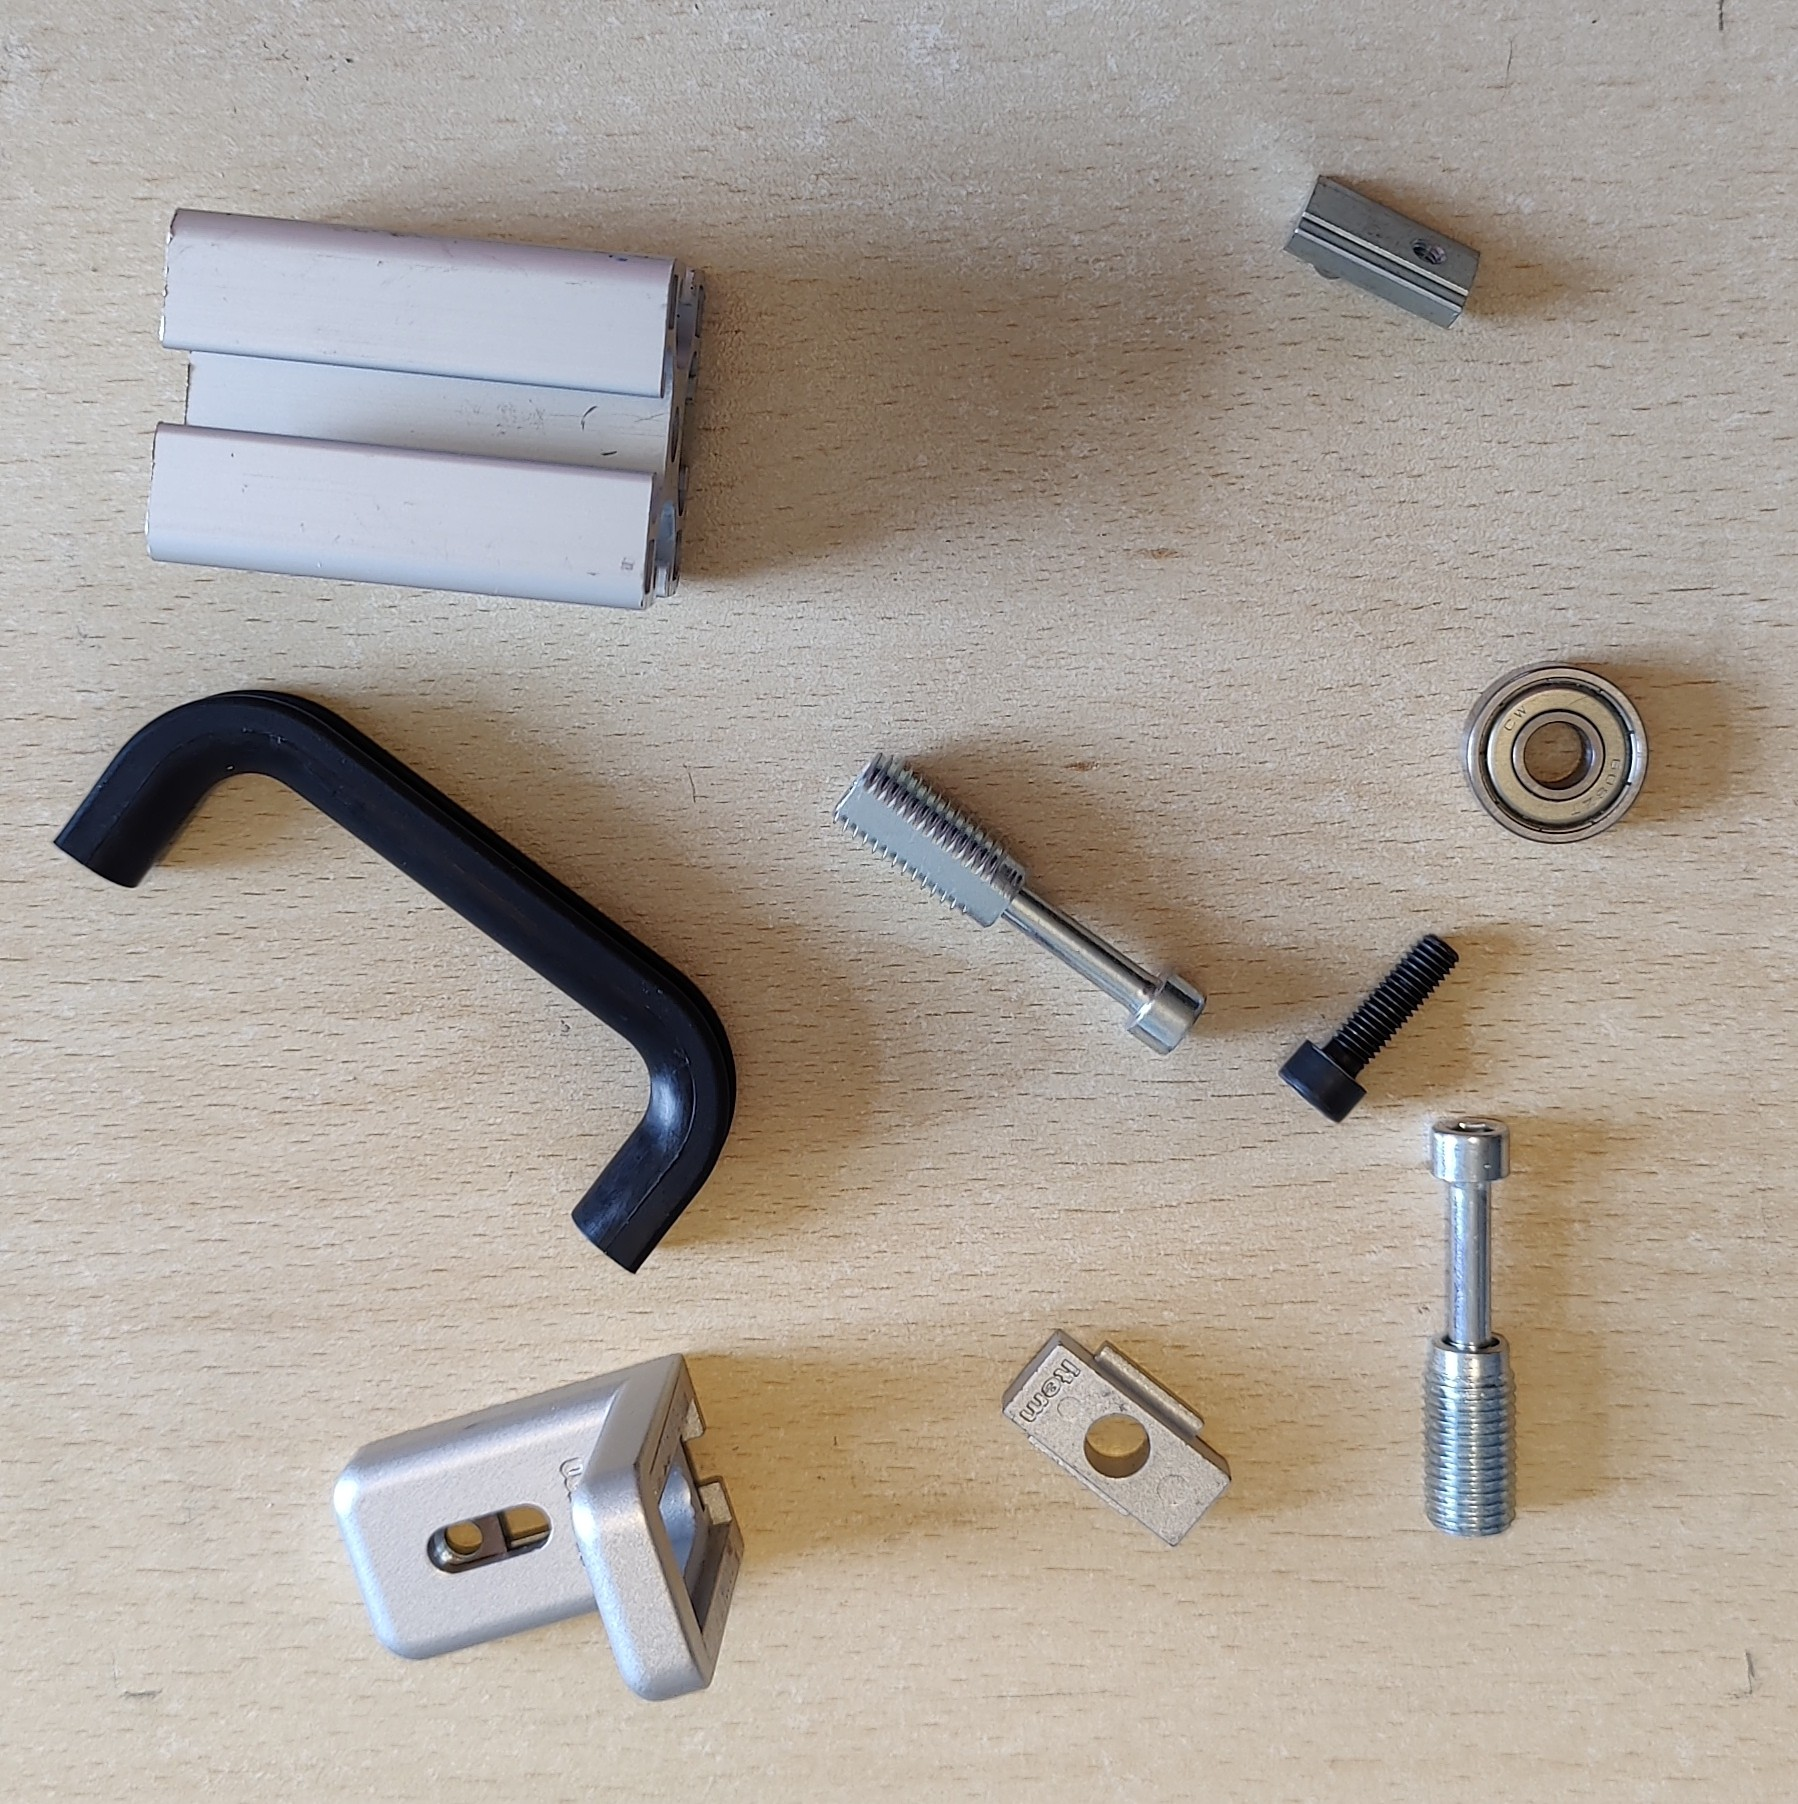Aluminium Extension: (142, 206, 711, 614)
Ball Bearing: (1459, 658, 1651, 848)
Multiwinkel: (333, 1346, 748, 1707)
Pull Handle: (48, 685, 739, 1277)
Shoulder Socket Head Cap Screw: (828, 747, 1210, 1057), (1419, 1111, 1521, 1541)
Socket Head Cap Screw: (1276, 927, 1462, 1127)
T Nut Square: (998, 1327, 1235, 1552)
T Spring Nut: (1279, 170, 1484, 332)
